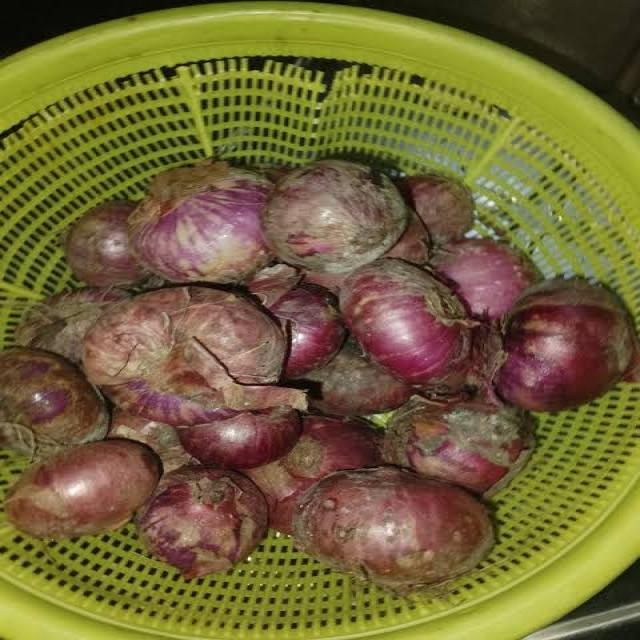mechanical_damage: (154, 146, 314, 278)
rotten: (185, 426, 411, 573)
